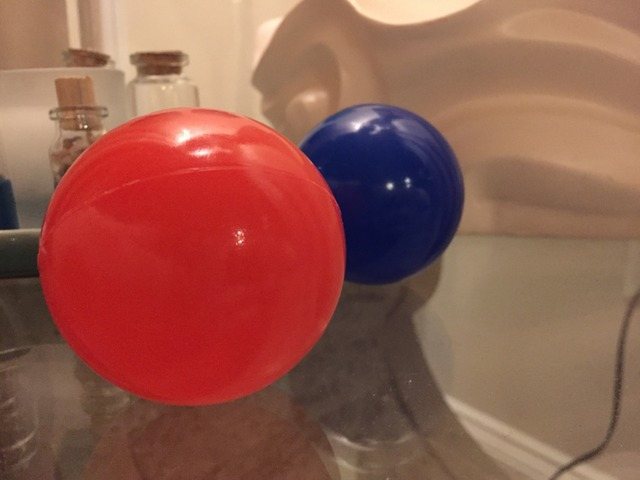Ball: (300, 103, 466, 285)
